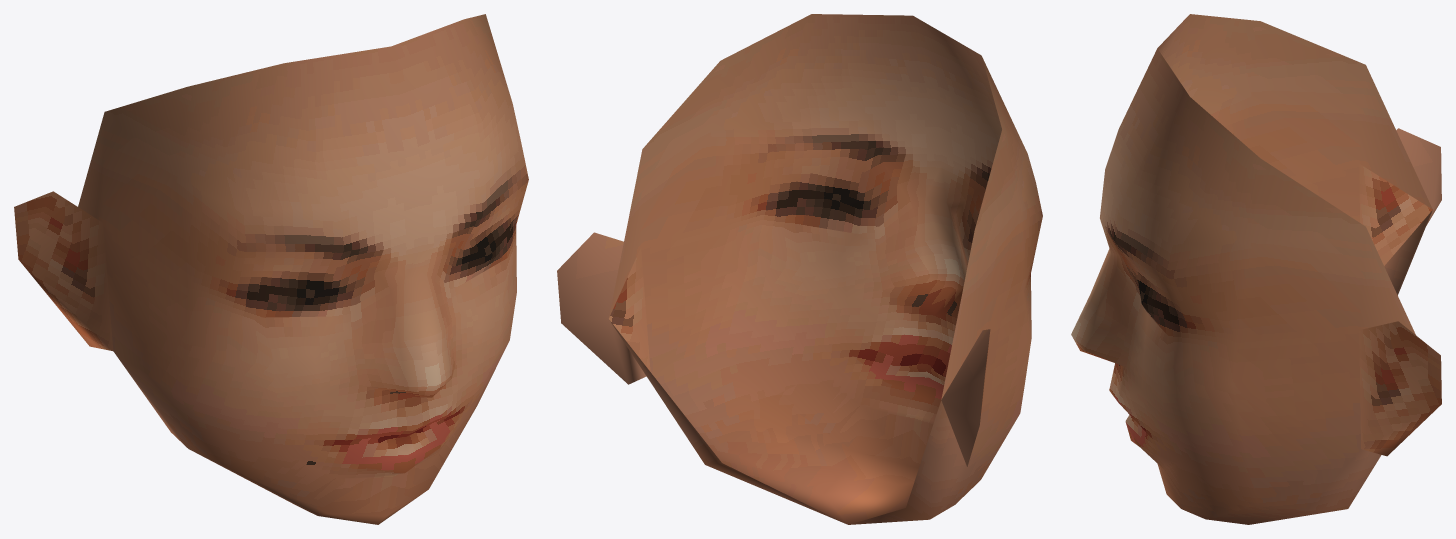
3 views of the same model, side by side, from view 1: azimuth 30°, elevation 25°; view 2: azimuth 150°, elevation 25°; view 3: azimuth 270°, elevation 25° (orthographic). The views are drawn at different scales.
Bounding box in the file's own units: 19.4 × 20.02 × 14.59.
1 material, 1 textured.
